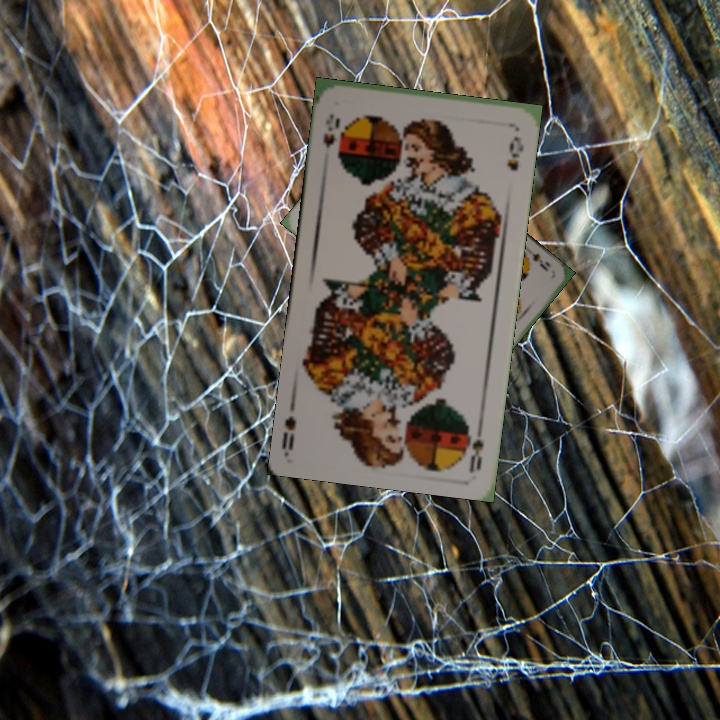S9: (520, 247, 553, 274)
SO: (464, 415, 486, 473), (319, 110, 344, 161)
